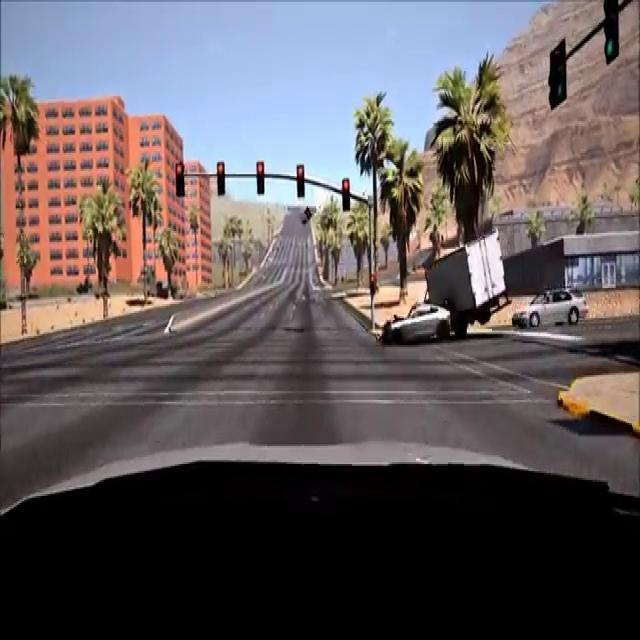severe: (378, 222, 512, 358)
